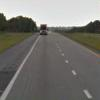Tree: (68, 14, 100, 31)
